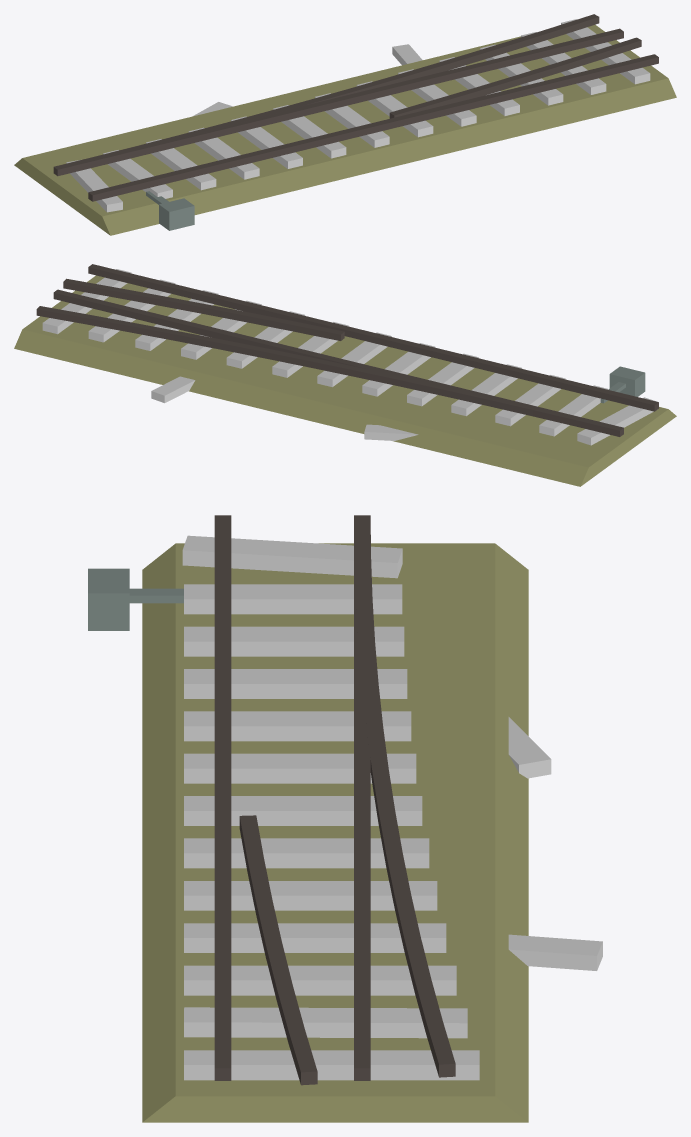
File: SM_Via_DesvioIzq_v4_Danada_LOD1.fbx
3 views of the same model, one above another, from view 1: azimuth 30°, elevation 25°; view 2: azimuth 150°, elevation 25°; view 3: azimuth 270°, elevation 25° (orthographic). The views are drawn at different scales.
Visible parts, largest first — view 1: SM_via_trazado_v29_LOD1; view 2: SM_via_trazado_v29_LOD1; view 3: SM_via_trazado_v29_LOD1.
Boxes of the visible parts, x1,y1,x2,y2 form: SM_via_trazado_v29_LOD1: (14, 14, 676, 235); SM_via_trazado_v29_LOD1: (14, 264, 676, 486); SM_via_trazado_v29_LOD1: (88, 515, 602, 1122).
Bounding box in the file's own units: 15.79 × 0.721 × 6.17.
